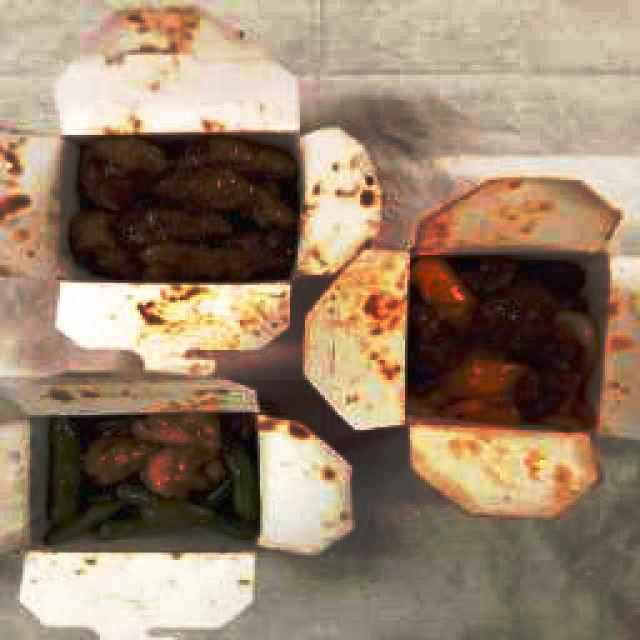Beijing Beef: (409, 253, 597, 424)
Kung Pao Chicken: (65, 131, 300, 283)
String Bean Chicken Breast: (42, 414, 253, 546)
